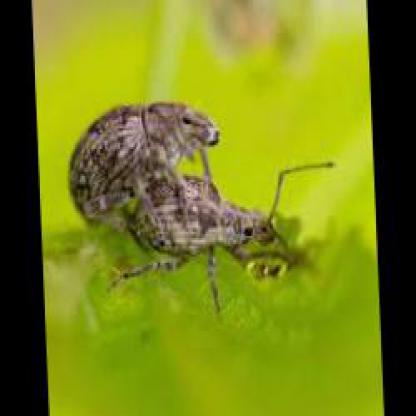ash weevil: (117, 166, 333, 298), (68, 103, 219, 230)
